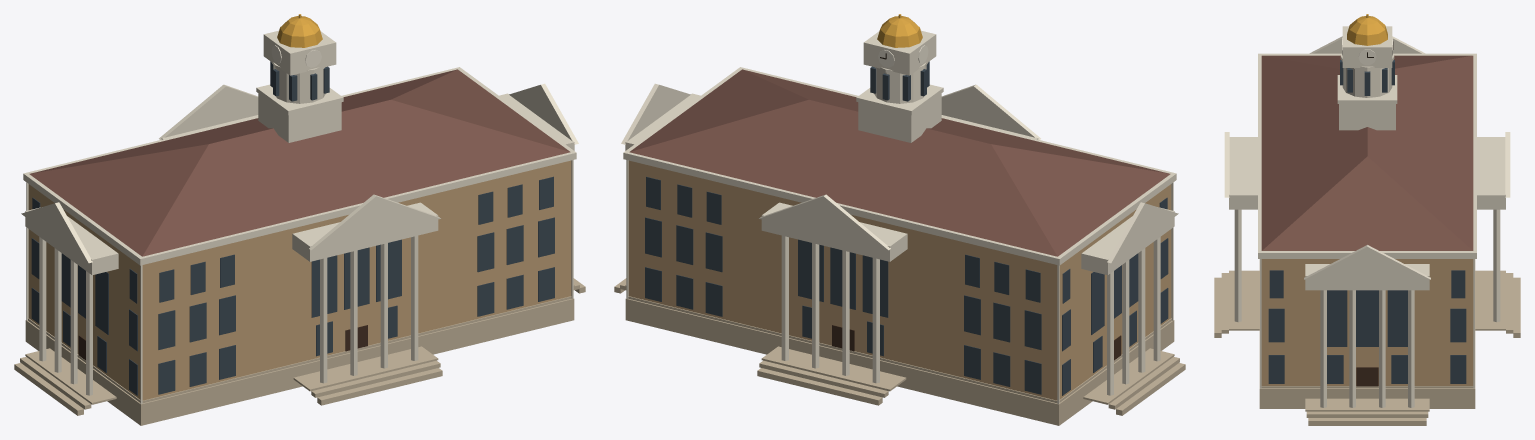
Rendered from jasper_courthouse.glb.
3 views of the same model, side by side, from view 1: azimuth 30°, elevation 25°; view 2: azimuth 150°, elevation 25°; view 3: azimuth 270°, elevation 25° (orthographic). The views are drawn at different scales.
Visible parts, largest first — view 1: roof, wall, plinth, cornice, portico_w_pediment, portico_w_entablature, cupola_base, portico_e_pediment, portico_w_stylobate, portico_s_entablature, clock_stage, belt (+35 smaller); view 2: roof, wall, plinth, cornice, portico_e_pediment, portico_e_entablature, cupola_base, portico_w_pediment, portico_e_stylobate, portico_s_entablature, clock_stage, belt (+35 smaller); view 3: roof, wall, cornice, plinth, portico_n_pediment, portico_e_entablature, portico_w_entablature, portico_n_entablature, portico_e_stylobate, portico_w_stylobate, portico_n_stylobate, cupola_base (+32 smaller).
Part boxes in pixels (box(x1,y1,x2,y2)): roof: box(29, 69, 570, 256); wall: box(28, 160, 571, 400); plinth: box(25, 298, 574, 425); cornice: box(23, 67, 576, 265); portico_w_pediment: box(309, 194, 440, 250); portico_w_entablature: box(292, 202, 438, 261); cupola_base: box(258, 93, 341, 142); portico_e_pediment: box(159, 84, 258, 139); portico_w_stylobate: box(293, 346, 438, 391); portico_s_entablature: box(25, 207, 118, 275); clock_stage: box(263, 30, 336, 75); belt: box(28, 296, 571, 403); roof: box(629, 69, 1170, 256); wall: box(628, 160, 1171, 400); plinth: box(625, 298, 1174, 425); cornice: box(623, 67, 1176, 265); portico_e_pediment: box(759, 194, 890, 250); portico_e_entablature: box(761, 202, 907, 261); cupola_base: box(858, 93, 941, 142); portico_w_pediment: box(941, 84, 1040, 139); portico_e_stylobate: box(761, 346, 906, 391); portico_s_entablature: box(1081, 207, 1174, 275); clock_stage: box(863, 30, 936, 75); belt: box(628, 296, 1171, 403); roof: box(1261, 55, 1473, 250); wall: box(1261, 259, 1473, 385); cornice: box(1258, 53, 1476, 258); plinth: box(1259, 259, 1475, 408); portico_n_pediment: box(1304, 245, 1430, 279); portico_e_entablature: box(1477, 137, 1505, 209); portico_w_entablature: box(1229, 137, 1257, 209); portico_n_entablature: box(1305, 264, 1429, 290); portico_e_stylobate: box(1475, 270, 1505, 330); portico_w_stylobate: box(1229, 270, 1259, 330); portico_n_stylobate: box(1305, 398, 1429, 411); cupola_base: box(1339, 104, 1395, 130).
Size of the model in its own units: 51.89 by 30.88 by 29.02.
